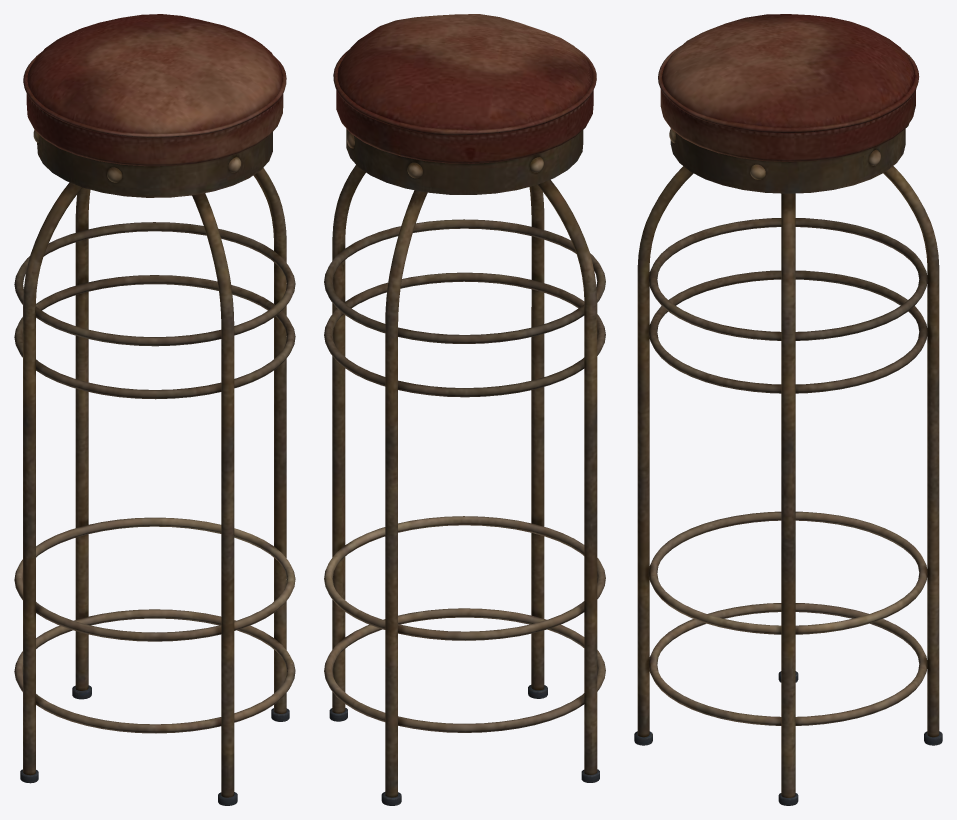
The model's file is metal_stool_01.glb.
The picture shows the model from 3 angles, left to right: view 1: azimuth 30°, elevation 25°; view 2: azimuth 150°, elevation 25°; view 3: azimuth 270°, elevation 25°; orthographic projection.
Parts seen in each view (by area): view 1: metal_stool_01; view 2: metal_stool_01; view 3: metal_stool_01.
Boxes of the visible parts, x1,y1,x2,y2 form: metal_stool_01: [14, 14, 295, 805]; metal_stool_01: [324, 14, 605, 805]; metal_stool_01: [634, 14, 942, 805].
Bounding box in the file's own units: 0.352 × 0.8828 × 0.3546.
1 material, 1 textured.
